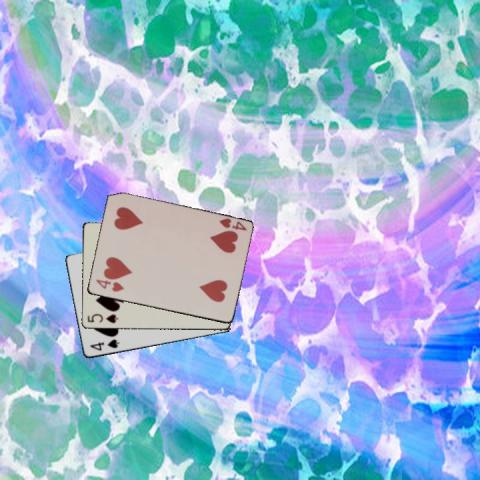4h: (216, 215, 248, 232), (93, 277, 125, 293)
4s: (87, 337, 120, 352)
5s: (84, 311, 119, 325)
